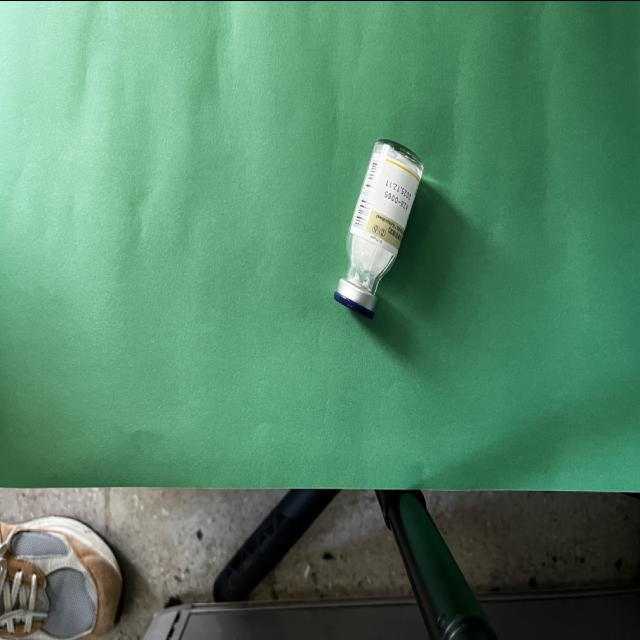Vials: (334, 139, 424, 318)
